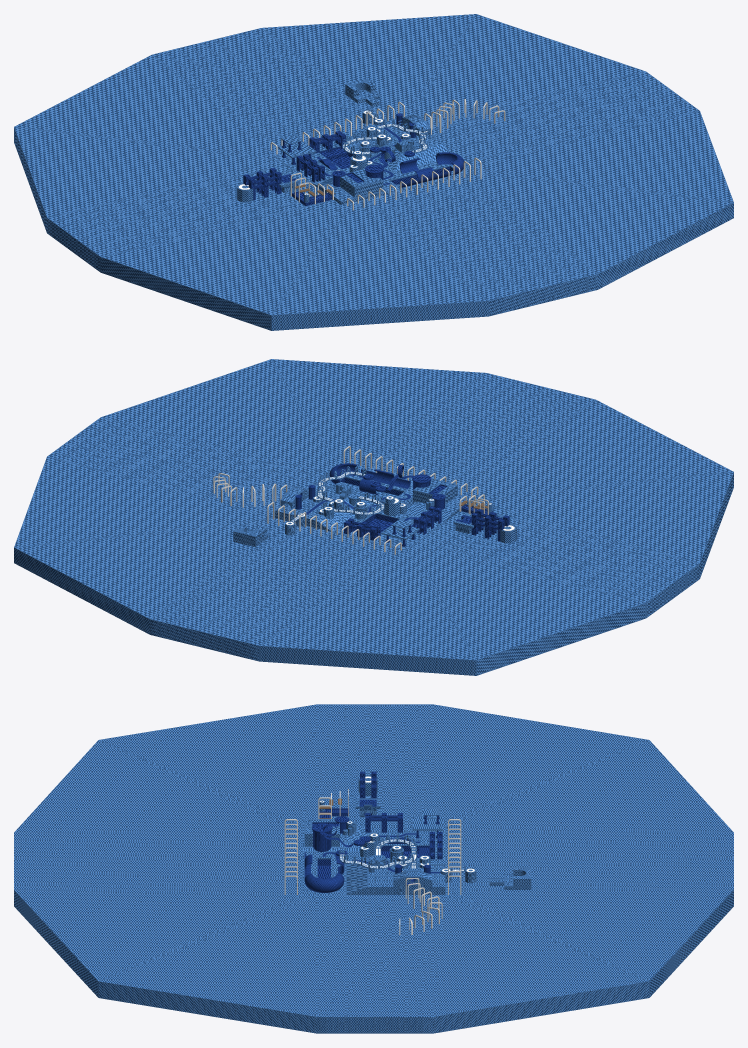
The model's file is MAPV6.glb.
3 views of the same model, one above another, from view 1: azimuth 30°, elevation 25°; view 2: azimuth 150°, elevation 25°; view 3: azimuth 270°, elevation 25° (orthographic). The views are drawn at different scales.
Parts seen in each view (by area): view 1: Cube.018, Cube, Cube.026, Cube.034, Cube.025, Plane, Cube.035; view 2: Cube.018, Cube, Cube.035, Cube.026, Cube.025, Cube.034, Plane, Cube.002; view 3: Cube.018, Cube, Cube.025, Plane, Cube.017, Plane.001, Cube.026.
Boxes of the visible parts, left/top/right/bottom form: Cube.018: left=14, top=14, right=733, bottom=330; Cube: left=274, top=115, right=472, bottom=204; Cube.026: left=340, top=169, right=383, bottom=197; Cube.034: left=347, top=157, right=481, bottom=210; Cube.025: left=424, top=99, right=505, bottom=134; Plane: left=345, top=79, right=380, bottom=106; Cube.035: left=270, top=101, right=404, bottom=154; Cube.018: left=14, top=359, right=733, bottom=675; Cube: left=274, top=475, right=473, bottom=549; Cube.035: left=267, top=502, right=401, bottom=554; Cube.026: left=413, top=478, right=457, bottom=504; Cube.025: left=213, top=473, right=287, bottom=507; Cube.034: left=343, top=446, right=478, bottom=496; Plane: left=233, top=525, right=268, bottom=546; Cube.002: left=323, top=492, right=384, bottom=515; Cube.018: left=14, top=704, right=733, bottom=1033; Cube: left=302, top=822, right=445, bottom=894; Cube.025: left=399, top=878, right=442, bottom=935; Plane: left=489, top=867, right=531, bottom=889; Cube.017: left=339, top=847, right=417, bottom=869; Plane.001: left=304, top=873, right=344, bottom=892; Cube.026: left=304, top=819, right=339, bottom=846.
Size of the model in its own units: 2495 by 202 by 2427.
16 materials, 14 textured.
